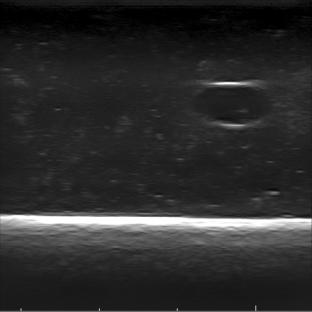vessel: (193, 81, 271, 130)
